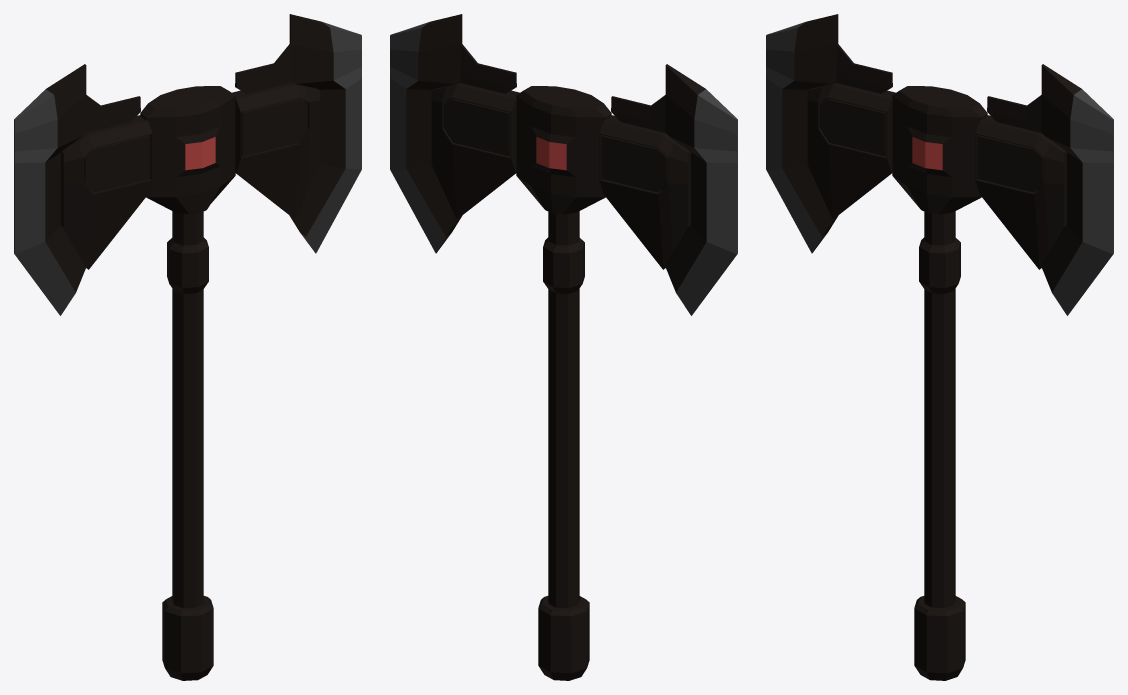
Rendered from one_handed_axe_6.fbx.
The picture shows the model from 3 angles, left to right: view 1: azimuth 30°, elevation 25°; view 2: azimuth 150°, elevation 25°; view 3: azimuth 330°, elevation 25°; orthographic projection.
Parts seen in each view (by area): view 1: one_handed_axe_6; view 2: one_handed_axe_6; view 3: one_handed_axe_6.
Boxes of the visible parts, left/top/right/bottom form: one_handed_axe_6: left=14, top=14, right=361, bottom=680; one_handed_axe_6: left=390, top=14, right=737, bottom=680; one_handed_axe_6: left=766, top=14, right=1113, bottom=680.
Size of the model in its own units: 0.6556 by 1.14 by 0.0955.
1 material, 1 textured.
